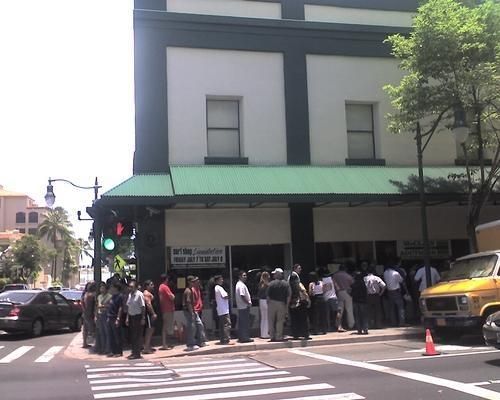car: (1, 288, 84, 338), (482, 310, 500, 352), (59, 290, 83, 306), (1, 284, 28, 293)
truck: (418, 220, 500, 341)
